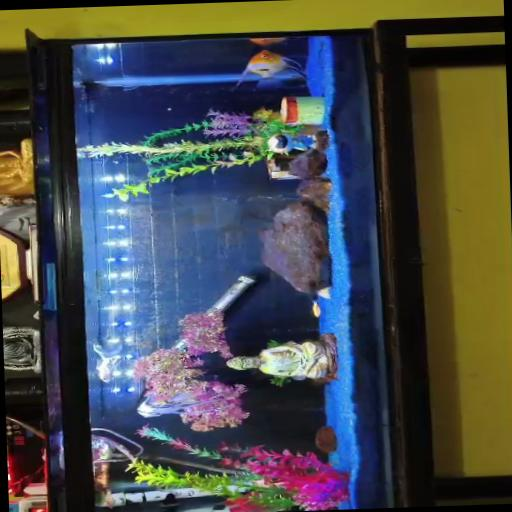Fish: (238, 50, 305, 87), (93, 344, 121, 382), (249, 37, 289, 46), (313, 300, 322, 317)
